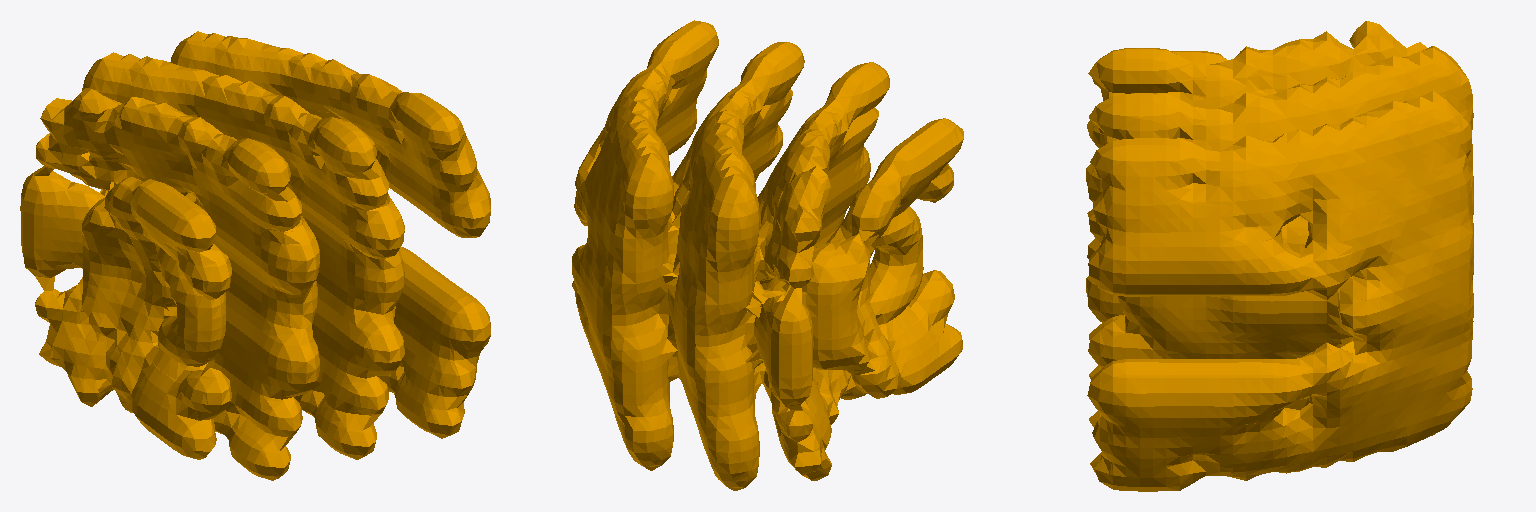
The robot description file, URDF, robot "M25_3":
<?xml version="1.0"?>
<robot name="M25_3">
  <link name="base_link">
    <visual>
      <geometry>
        <mesh filename="../../../../meshes/egad/train/M25_3.obj" />
      </geometry>
    </visual>
  </link>
</robot>

--- What the picture shows (computed from the rendered views, not written in the file) ---
Views: 3 orthographic renders of the robot side by side, from view 1: azimuth 30°, elevation 25°; view 2: azimuth 150°, elevation 25°; view 3: azimuth 270°, elevation 25°.
Model M25_3 with 1 links and 0 joints (none), rooted at base_link, posed all joints at 0.
Links seen in each view (by area): view 1: base_link; view 2: base_link; view 3: base_link.
Link boxes in pixels (<box>): base_link: <box>20,31,490,480</box>; base_link: <box>572,20,963,490</box>; base_link: <box>1086,21,1473,491</box>.
Bounding box of the posed robot: 0.0606 × 0.0602 × 0.06 m (x, y, z).
1 mesh visuals loaded from 1 distinct referenced files (1 OBJ).